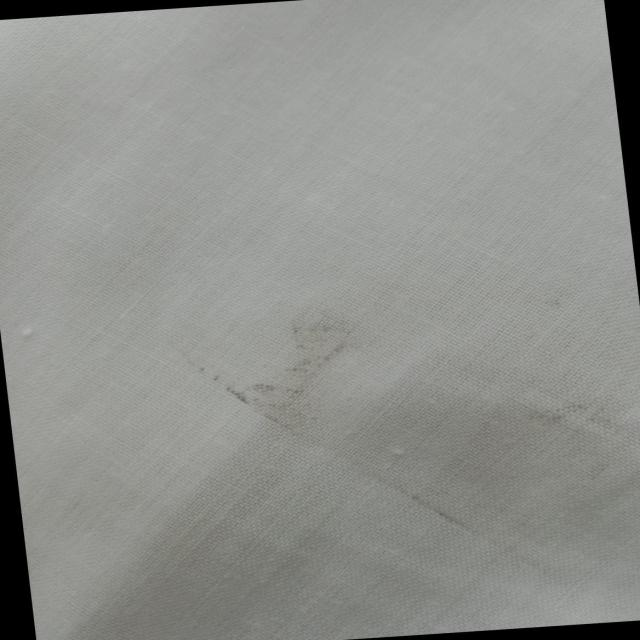stain: (189, 306, 379, 428), (491, 390, 627, 470)
